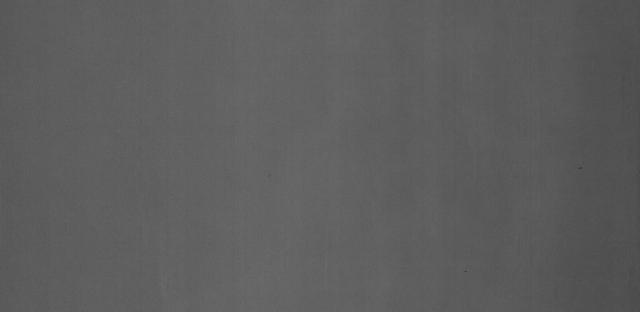inclusion: (570, 152, 592, 175)
